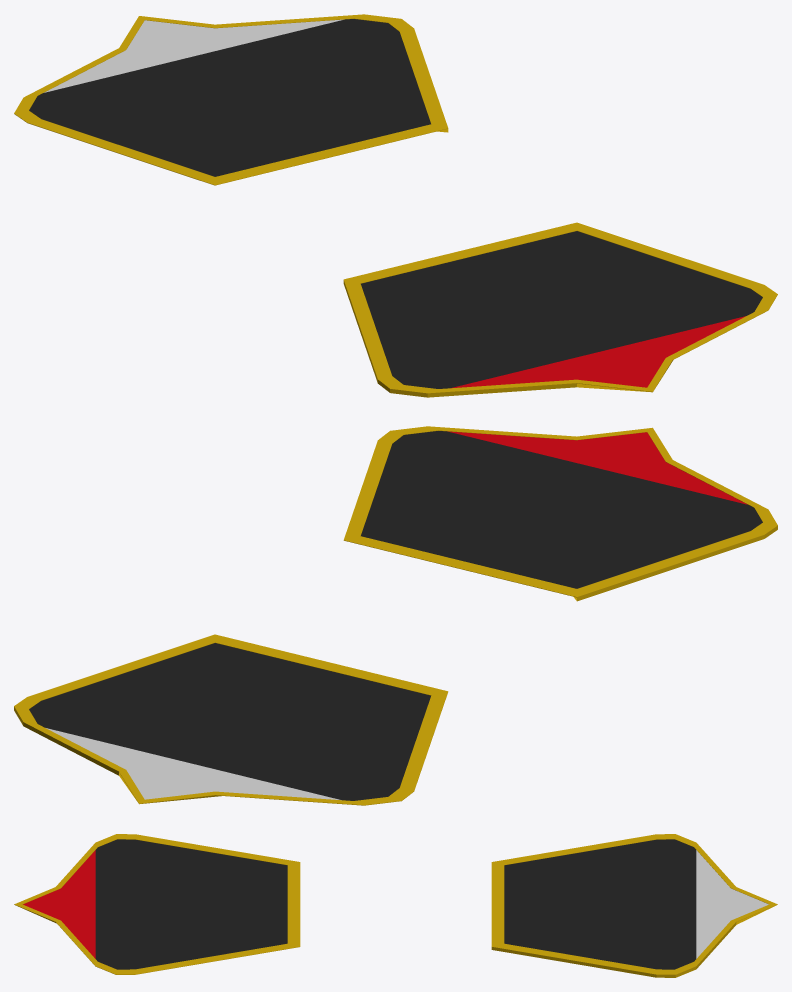
File: arena5.fbx
3 renders of one model, top to bottom at view 1: azimuth 30°, elevation 25°; view 2: azimuth 150°, elevation 25°; view 3: azimuth 270°, elevation 25°, orthographic. The views are drawn at different scales.
Visible parts, largest first — view 1: Cube, Cube.001; view 2: Cube, Cube.001; view 3: Cube.001, Cube.
Part boxes in pixels (x1=…): Cube: x1=343, y1=222, x2=777, y2=397; Cube.001: x1=14, y1=14, x2=448, y2=185; Cube: x1=343, y1=426, x2=777, y2=601; Cube.001: x1=14, y1=634, x2=448, y2=805; Cube.001: x1=491, y1=834, x2=777, y2=977; Cube: x1=14, y1=834, x2=300, y2=974.
Size of the model in its own units: 485 by 5.09 by 1114.
